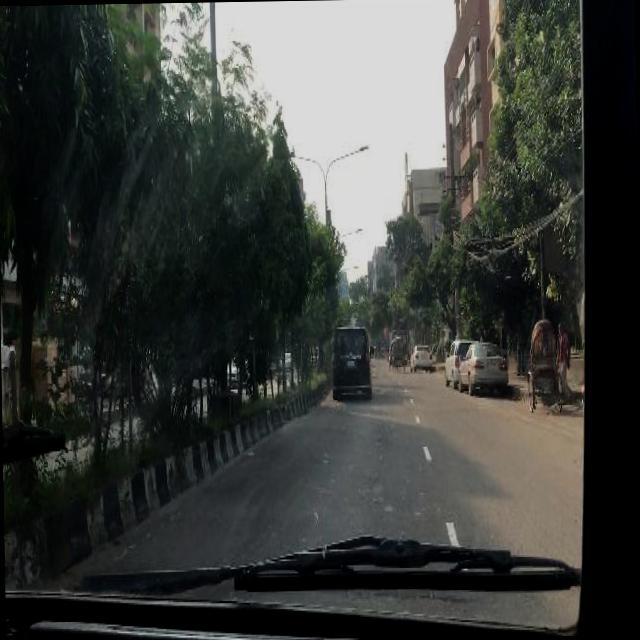car: (458, 342, 510, 391), (445, 333, 471, 378), (411, 343, 434, 368), (280, 349, 292, 367)
motorcycle: (526, 314, 564, 409), (393, 336, 407, 368)
truck: (331, 324, 373, 396)
